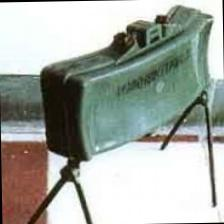MOH-50: (31, 3, 224, 168)
